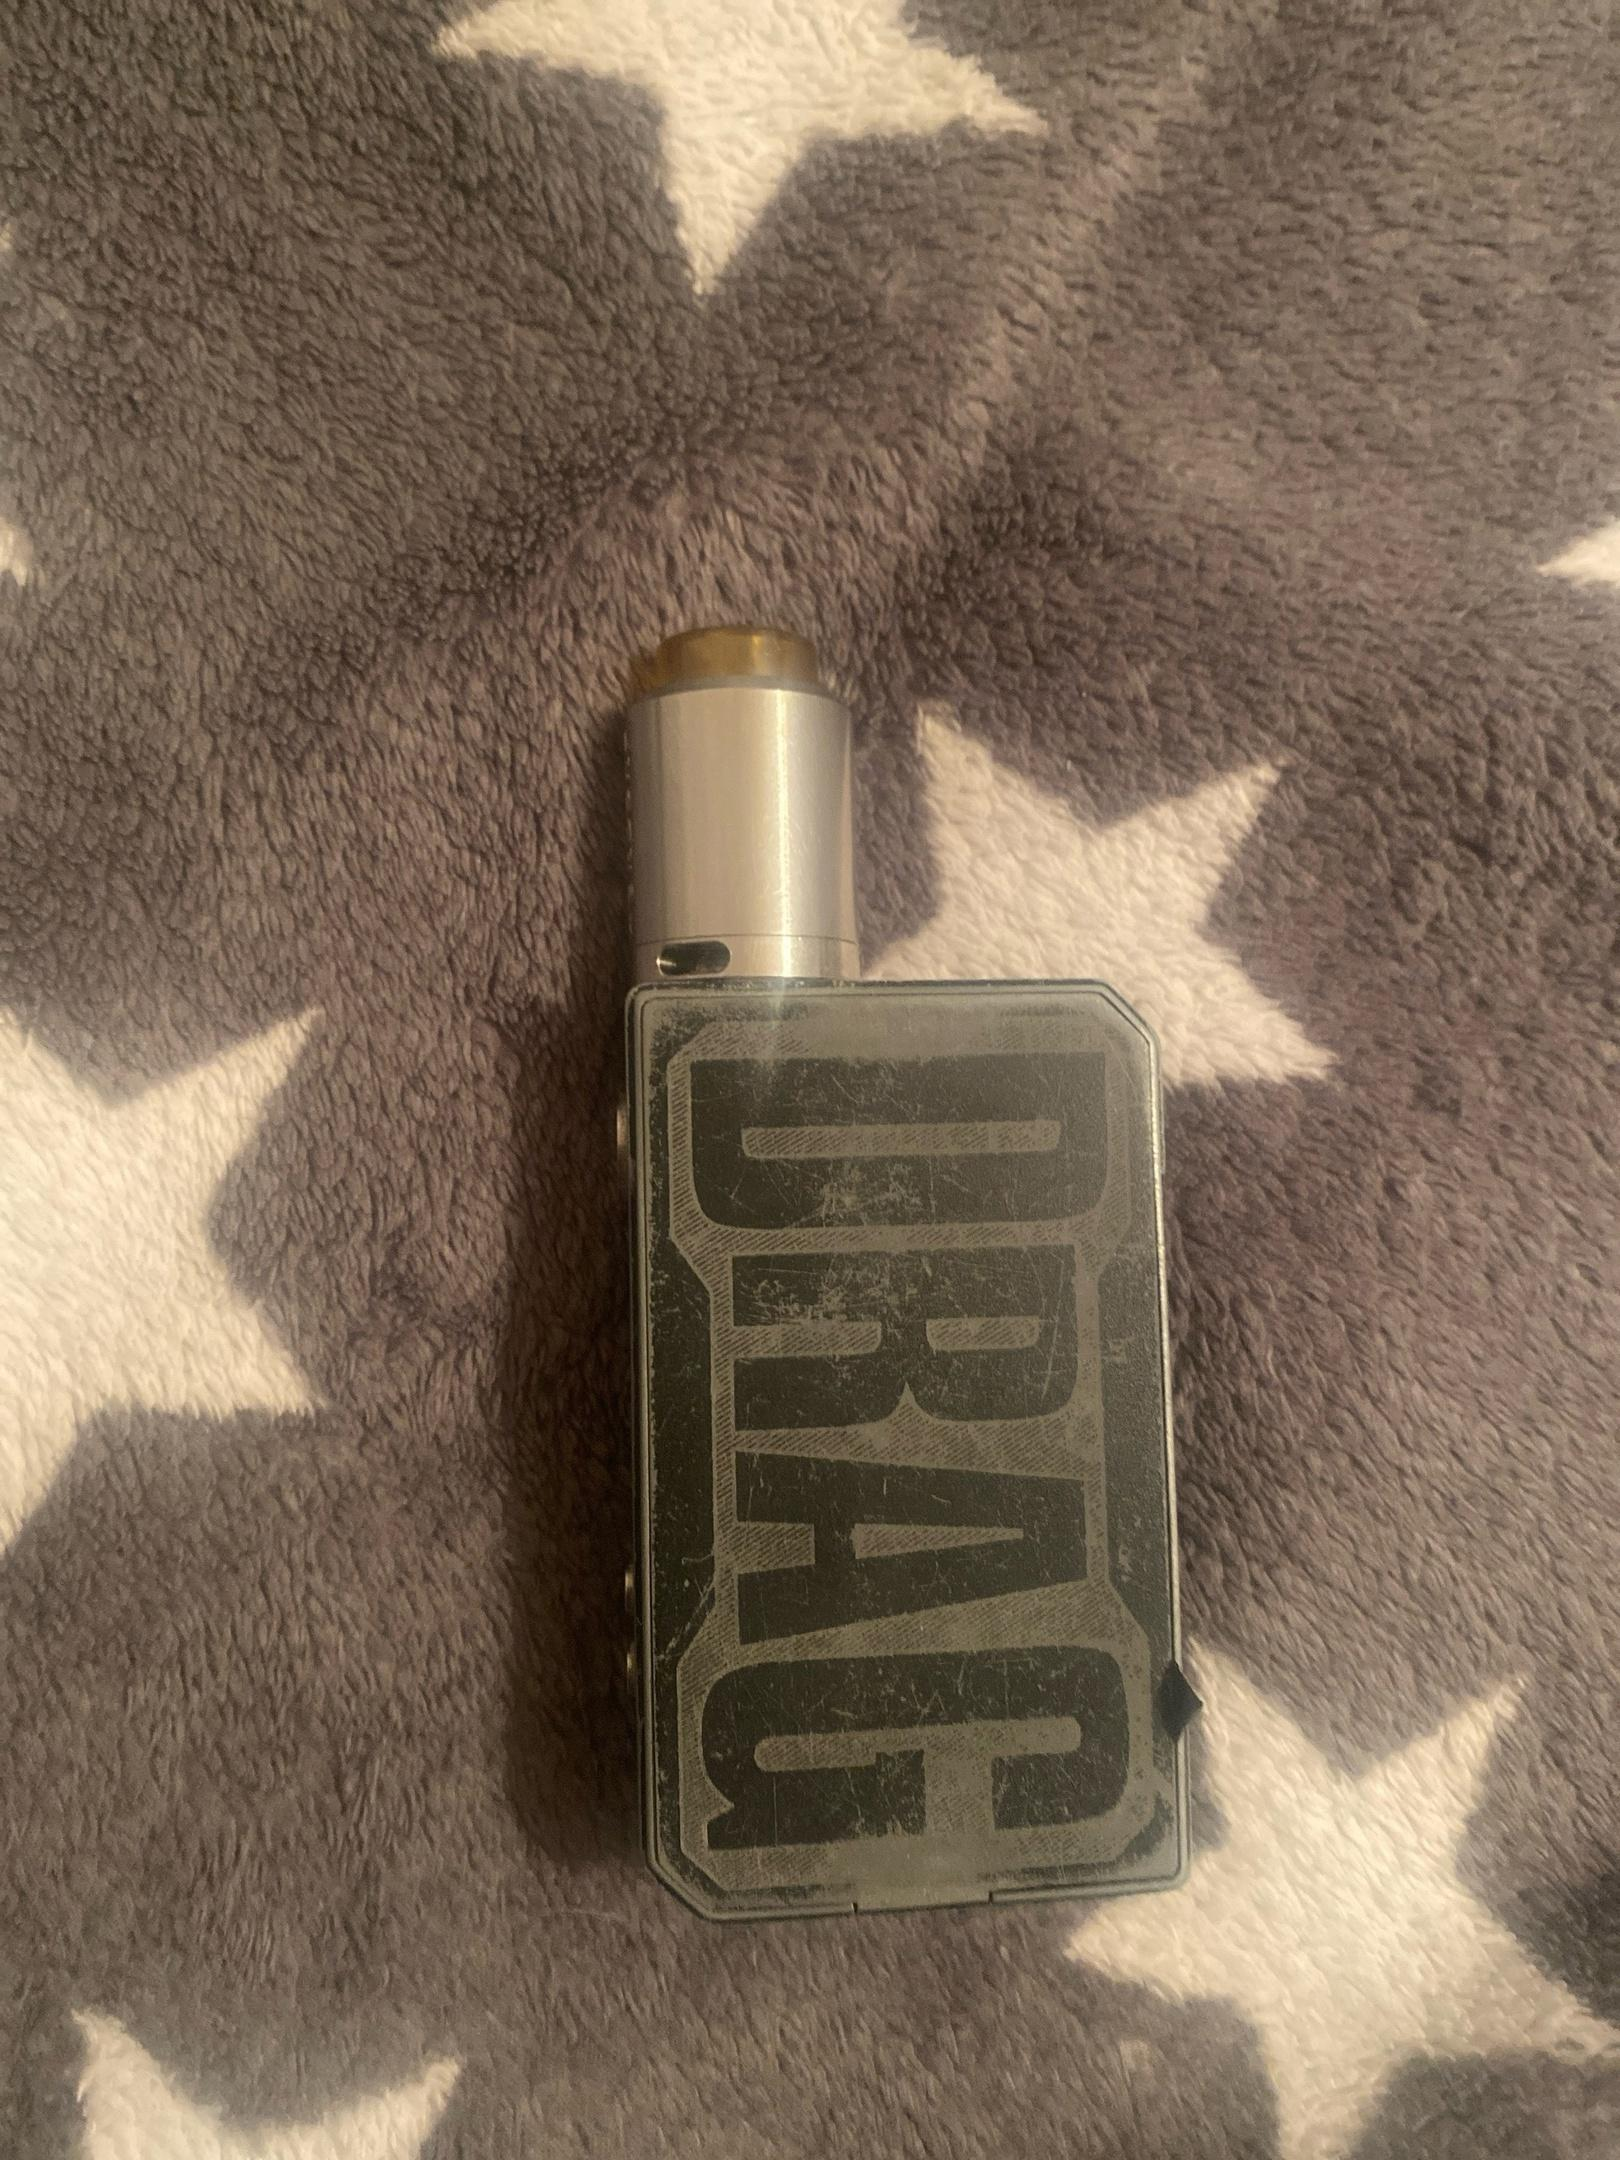Vape: (625, 628, 1200, 1920)
